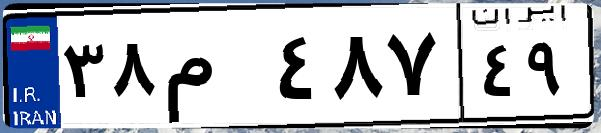3: (57, 26, 110, 100)
4: (270, 28, 330, 110), (475, 38, 525, 113)
7: (385, 28, 445, 110)
8: (330, 28, 385, 110), (110, 28, 158, 98)
9: (525, 38, 570, 115)
م: (158, 20, 270, 120)
